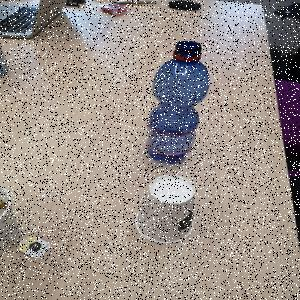Cup: (135, 175, 197, 246), (1, 186, 23, 256)
Plastic-bottle: (147, 42, 212, 166)
